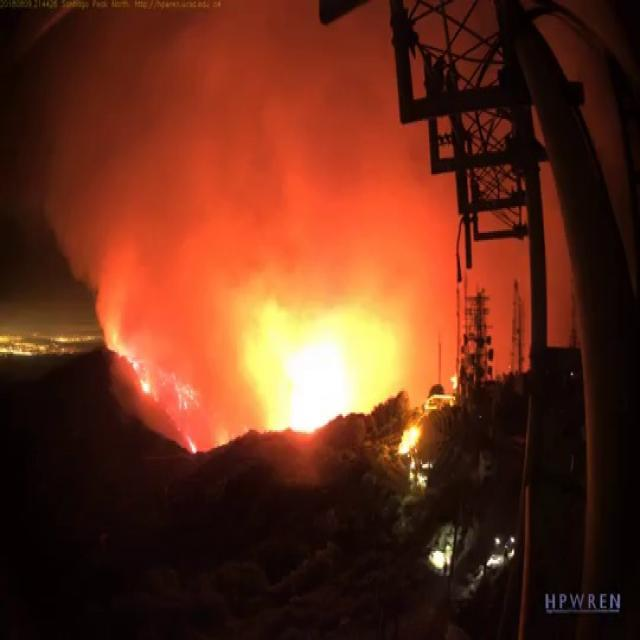Fire: (251, 302, 389, 434), (108, 331, 156, 393)
